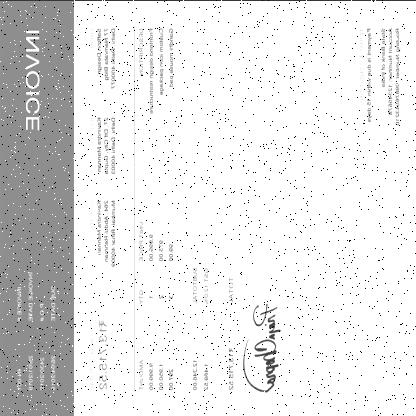Paragraph: (13, 267, 59, 393), (357, 23, 403, 127), (190, 263, 212, 393), (87, 194, 118, 270), (86, 112, 119, 178), (87, 23, 118, 91), (23, 26, 42, 132), (86, 314, 110, 394), (226, 272, 237, 392)
Table: (134, 24, 178, 394)
